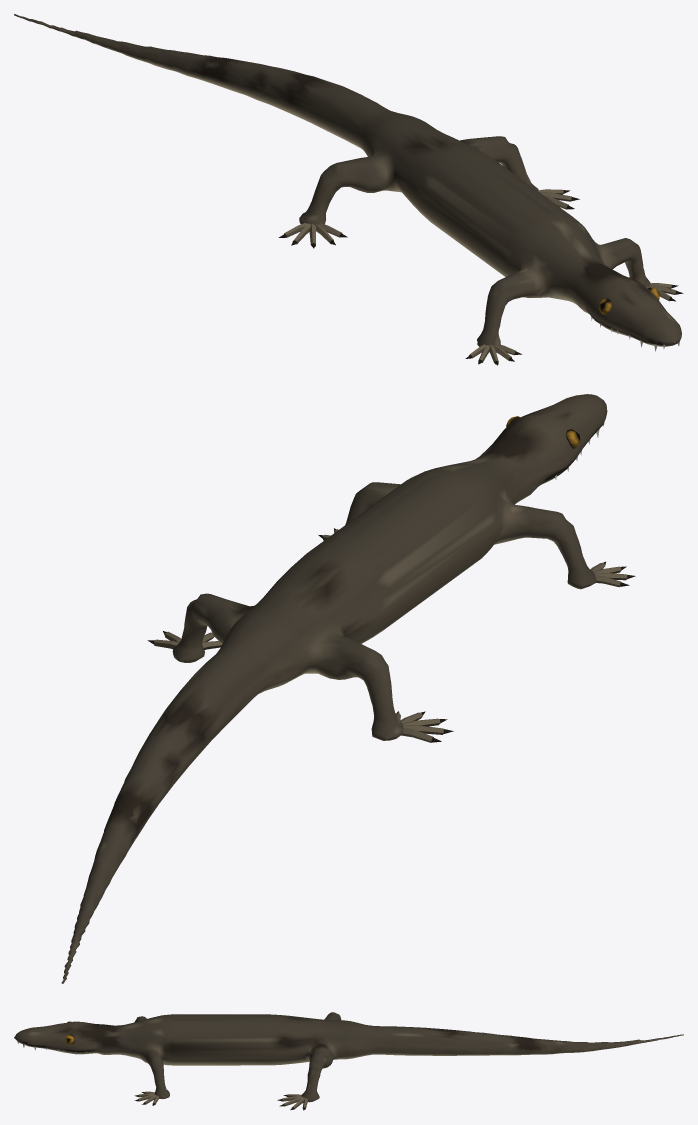
File: Archaeothyris.fbx
The picture shows the model from 3 angles, top to bottom: view 1: azimuth 30°, elevation 25°; view 2: azimuth 150°, elevation 25°; view 3: azimuth 270°, elevation 25°; orthographic projection. The views are drawn at different scales.
Visible parts, largest first — view 1: Archaeothyris; view 2: Archaeothyris; view 3: Archaeothyris.
Boxes of the visible parts, box(x1,y1,x2,y2) form: Archaeothyris: box(14, 14, 683, 365); Archaeothyris: box(61, 394, 635, 983); Archaeothyris: box(14, 1012, 683, 1110).
Bounding box in the file's own units: 0.3197 × 0.1038 × 1.14.
